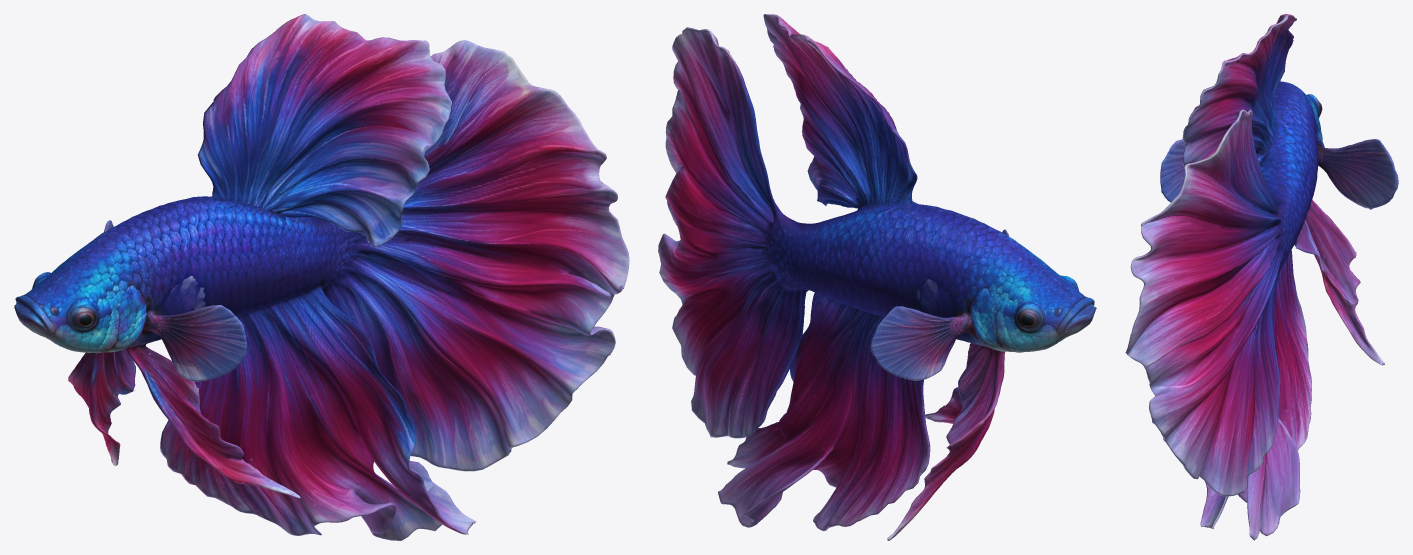
Rendered from betta+fish+3d+model.glb.
3 renders of one model, left to right at view 1: azimuth 30°, elevation 25°; view 2: azimuth 150°, elevation 25°; view 3: azimuth 270°, elevation 25°, orthographic. The views are drawn at different scales.
Parts seen in each view (by area): view 1: tripo_node_0fe15e40-9143-4a23-9f54-b36a99522e65; view 2: tripo_node_0fe15e40-9143-4a23-9f54-b36a99522e65; view 3: tripo_node_0fe15e40-9143-4a23-9f54-b36a99522e65.
Part boxes in pixels (x1=…): tripo_node_0fe15e40-9143-4a23-9f54-b36a99522e65: x1=14, y1=14, x2=629, y2=540; tripo_node_0fe15e40-9143-4a23-9f54-b36a99522e65: x1=658, y1=14, x2=1096, y2=540; tripo_node_0fe15e40-9143-4a23-9f54-b36a99522e65: x1=1125, y1=14, x2=1398, y2=540.
Size of the model in its own units: 0.9944 by 0.9666 by 0.4963.
Materials: 1 (1 with a texture image).
